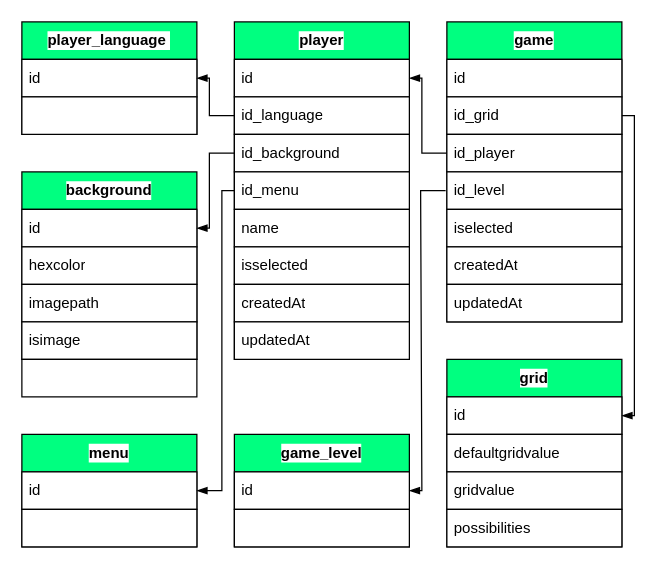
Some shapes in this 666 by 569 pixel diagram are drawn without their labels. Each missing label, with the centre of its shape:
"ISO" belongs at (109,115).
"isopaque" belongs at (109,377).
"level" belongs at (321,527).
"mode" belongs at (109,527).
